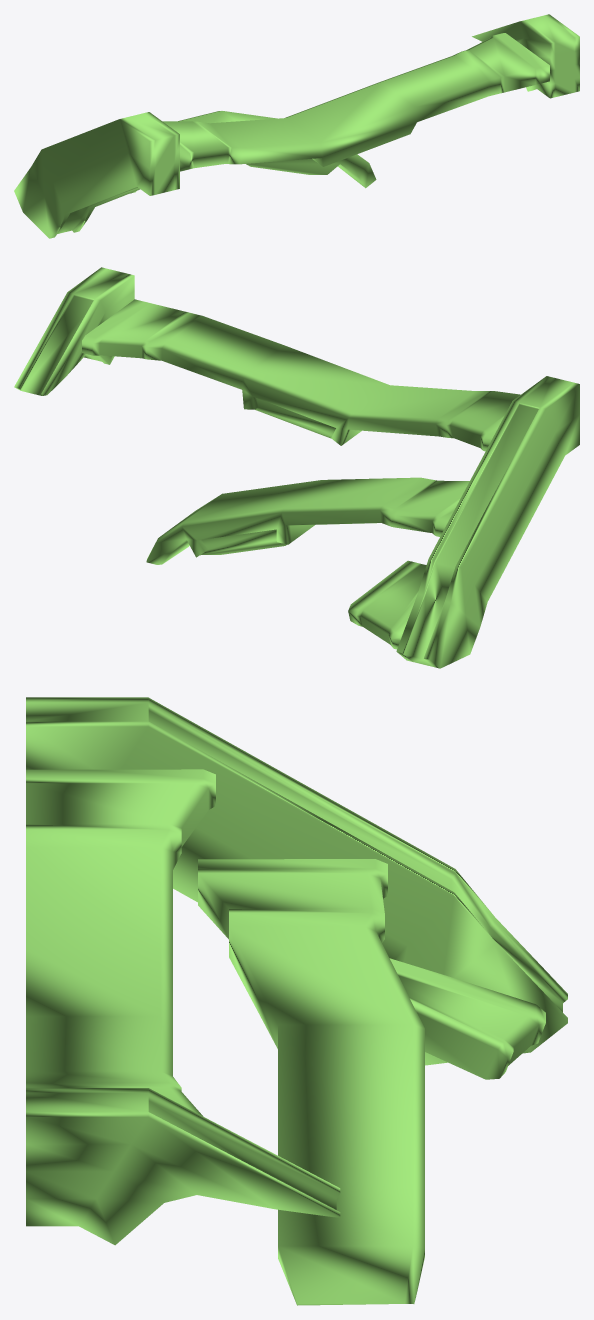
Rendered from Final de la escalera ROTA.fbx.
3 renders of one model, top to bottom at view 1: azimuth 30°, elevation 25°; view 2: azimuth 150°, elevation 25°; view 3: azimuth 270°, elevation 25°, orthographic. The views are drawn at different scales.
Visible parts, largest first — view 1: Final de escalera ROTA.003; view 2: Final de escalera ROTA.003; view 3: Final de escalera ROTA.003.
Part boxes in pixels (bbox=[...]): Final de escalera ROTA.003: bbox=[14, 14, 579, 238]; Final de escalera ROTA.003: bbox=[14, 267, 579, 668]; Final de escalera ROTA.003: bbox=[26, 697, 567, 1305].
Bounding box in the file's own units: 201 × 75.5 × 109.
